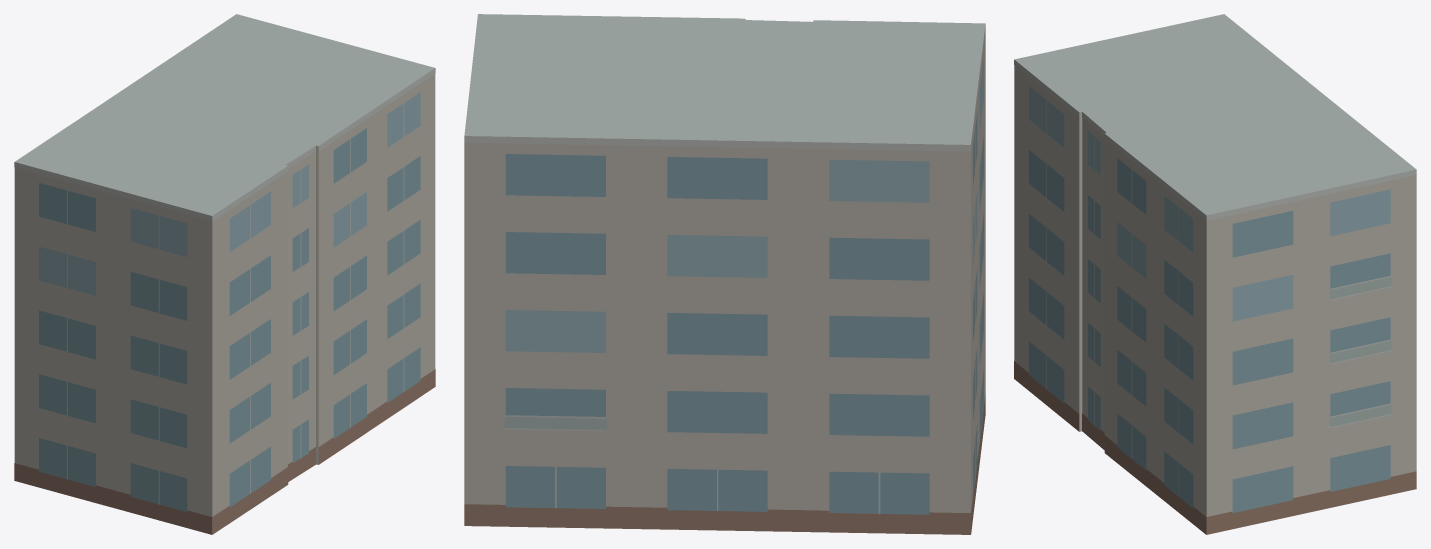
File: survey-upis-32836994.glb
3 views of the same model, side by side, from view 1: azimuth 30°, elevation 25°; view 2: azimuth 150°, elevation 25°; view 3: azimuth 270°, elevation 25° (orthographic). The views are drawn at different scales.
Visible parts, largest first — view 1: survey-upis-32836994.tmp; view 2: survey-upis-32836994.tmp; view 3: survey-upis-32836994.tmp.
Part boxes in pixels (x1,y1,x2,y2): survey-upis-32836994.tmp: (14,14,435,534); survey-upis-32836994.tmp: (464,14,985,534); survey-upis-32836994.tmp: (1014,14,1416,534).
Bounding box in the file's own units: 19.35 × 14.3 × 16.34.
